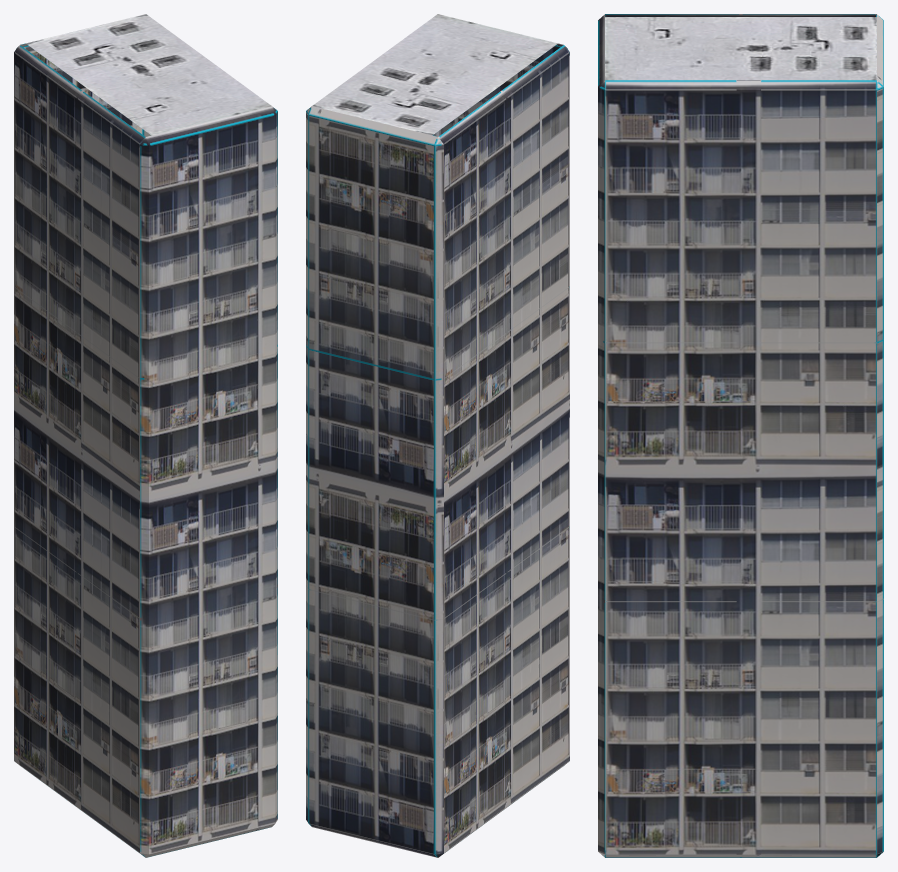
Rendered from building02.fbx.
3 renders of one model, left to right at view 1: azimuth 30°, elevation 25°; view 2: azimuth 150°, elevation 25°; view 3: azimuth 270°, elevation 25°, orthographic. The views are drawn at different scales.
Visible parts, largest first — view 1: pCube1; view 2: pCube1; view 3: pCube1.
Part boxes in pixels (x1,y1,x2,y2): pCube1: (14, 14, 277, 857); pCube1: (306, 14, 569, 857); pCube1: (598, 14, 883, 857).
Size of the model in its own units: 3 by 15 by 5.
1 material, 1 textured.
